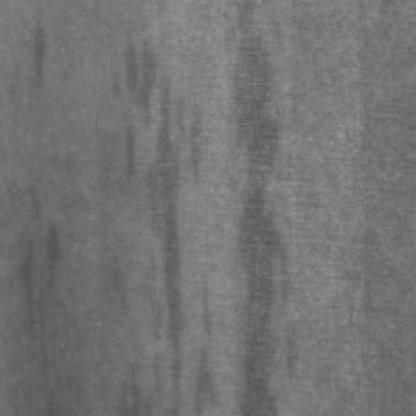inclusion: (226, 8, 306, 406), (123, 54, 206, 408), (116, 31, 158, 179), (17, 208, 62, 339), (23, 13, 60, 86)
